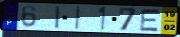1: (98, 6, 108, 32)
6: (21, 5, 38, 29)
7: (118, 7, 138, 32)
E: (139, 8, 162, 33)
I: (74, 5, 82, 31), (55, 5, 62, 30)
